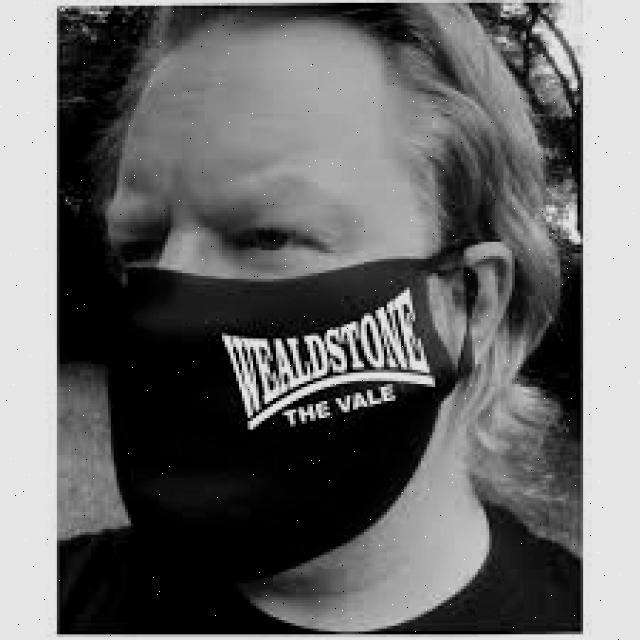fake: (46, 240, 492, 600)
real: (105, 24, 456, 589)
